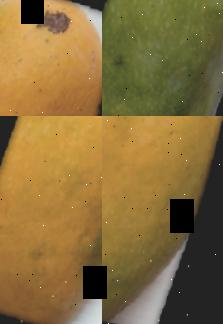PartiallyRipe: (102, 116, 223, 324)
Ripe: (0, 116, 102, 324), (0, 0, 102, 116)
Unripe: (102, 0, 223, 116)
